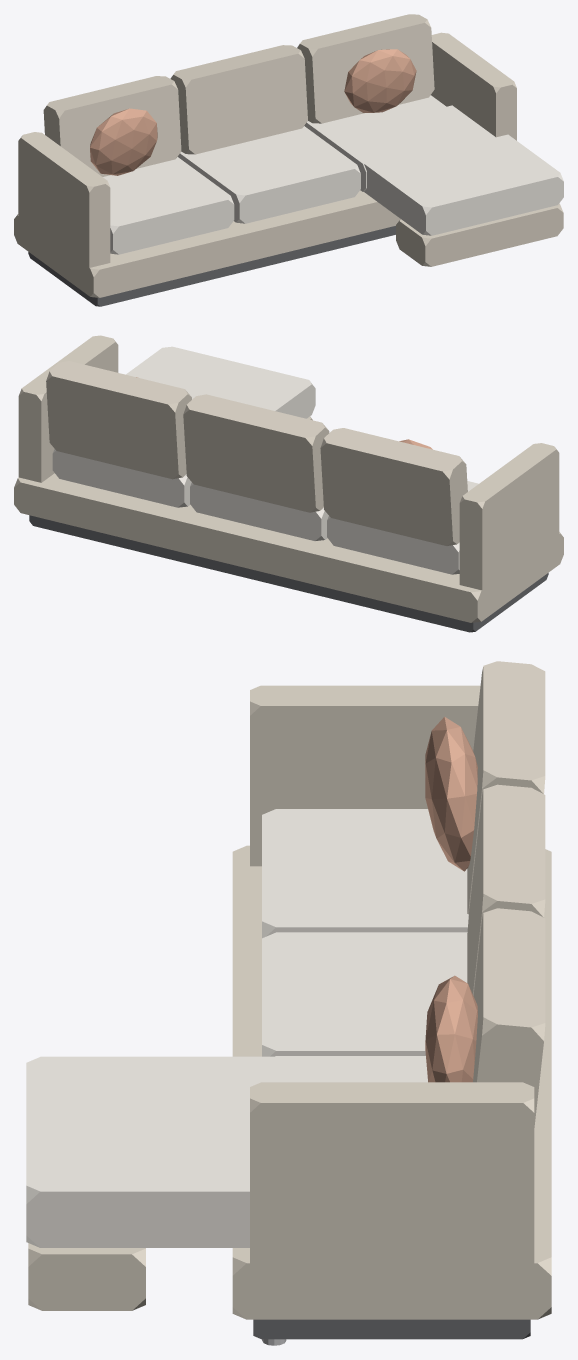
The model's file is sectional_sofa_low.glb.
The picture shows the model from 3 angles, top to bottom: view 1: azimuth 30°, elevation 25°; view 2: azimuth 150°, elevation 25°; view 3: azimuth 270°, elevation 25°; orthographic projection. The views are drawn at different scales.
Visible parts, largest first — view 1: FABRIC_LIGHT_chaise, FABRIC_MAIN_base, FABRIC_MAIN_back_1, FABRIC_LIGHT_seat_1, FABRIC_MAIN_arm_L, FABRIC_LIGHT_seat_0, FABRIC_MAIN_back_2, FABRIC_MAIN_back_0, FABRIC_LIGHT_seat_2, FABRIC_MAIN_arm_R, FABRIC_MAIN_chaise_base, FABRIC_ACCENT2_pillow_R (+2 smaller); view 2: FABRIC_MAIN_base, FABRIC_MAIN_back_0, FABRIC_MAIN_back_1, FABRIC_MAIN_back_2, FABRIC_MAIN_arm_L, FABRIC_LIGHT_chaise, DARK_shadow_plinth, FABRIC_MAIN_arm_R, FABRIC_LIGHT_seat_2, FABRIC_LIGHT_seat_1, FABRIC_LIGHT_seat_0; view 3: FABRIC_MAIN_arm_R, FABRIC_LIGHT_chaise, FABRIC_MAIN_base, FABRIC_MAIN_arm_L, FABRIC_LIGHT_seat_0, FABRIC_LIGHT_seat_1, FABRIC_MAIN_back_2, FABRIC_MAIN_back_1, FABRIC_MAIN_back_0, FABRIC_MAIN_chaise_base, FABRIC_ACCENT_pillow_L, DARK_shadow_plinth (+2 smaller).
Part boxes in pixels (x1,y1,x2,y2): FABRIC_LIGHT_chaise: [330, 105, 563, 235]; FABRIC_MAIN_base: [14, 190, 400, 297]; FABRIC_MAIN_back_1: [170, 45, 307, 154]; FABRIC_LIGHT_seat_1: [178, 126, 360, 223]; FABRIC_MAIN_arm_L: [18, 132, 110, 277]; FABRIC_LIGHT_seat_0: [103, 157, 234, 254]; FABRIC_MAIN_back_2: [297, 14, 434, 123]; FABRIC_MAIN_back_0: [43, 76, 181, 176]; FABRIC_LIGHT_seat_2: [304, 95, 483, 191]; FABRIC_MAIN_arm_R: [431, 32, 516, 140]; FABRIC_MAIN_chaise_base: [396, 203, 563, 266]; FABRIC_ACCENT2_pillow_R: [344, 49, 416, 112]; FABRIC_MAIN_base: [14, 473, 563, 622]; FABRIC_MAIN_back_0: [320, 428, 467, 545]; FABRIC_MAIN_back_1: [183, 394, 329, 512]; FABRIC_MAIN_back_2: [46, 361, 191, 479]; FABRIC_MAIN_arm_L: [459, 443, 559, 594]; FABRIC_LIGHT_chaise: [126, 346, 315, 418]; DARK_shadow_plinth: [29, 515, 548, 632]; FABRIC_MAIN_arm_R: [18, 335, 118, 482]; FABRIC_LIGHT_seat_2: [52, 449, 191, 507]; FABRIC_LIGHT_seat_1: [190, 482, 328, 540]; FABRIC_LIGHT_seat_0: [327, 481, 478, 574]; FABRIC_MAIN_arm_R: [250, 1082, 534, 1291]; FABRIC_LIGHT_chaise: [26, 1056, 424, 1247]; FABRIC_MAIN_base: [232, 845, 551, 1319]; FABRIC_MAIN_arm_L: [250, 685, 480, 866]; FABRIC_LIGHT_seat_0: [262, 809, 468, 938]; FABRIC_LIGHT_seat_1: [262, 932, 467, 1056]; FABRIC_MAIN_back_2: [473, 908, 545, 1127]; FABRIC_MAIN_back_1: [467, 784, 545, 995]; FABRIC_MAIN_back_0: [467, 661, 545, 914]; FABRIC_MAIN_chaise_base: [28, 1243, 145, 1310]; FABRIC_ACCENT_pillow_L: [425, 716, 477, 871]; DARK_shadow_plinth: [253, 1319, 530, 1339].
Size of the model in its own units: 2.85 by 1.02 by 1.51.
